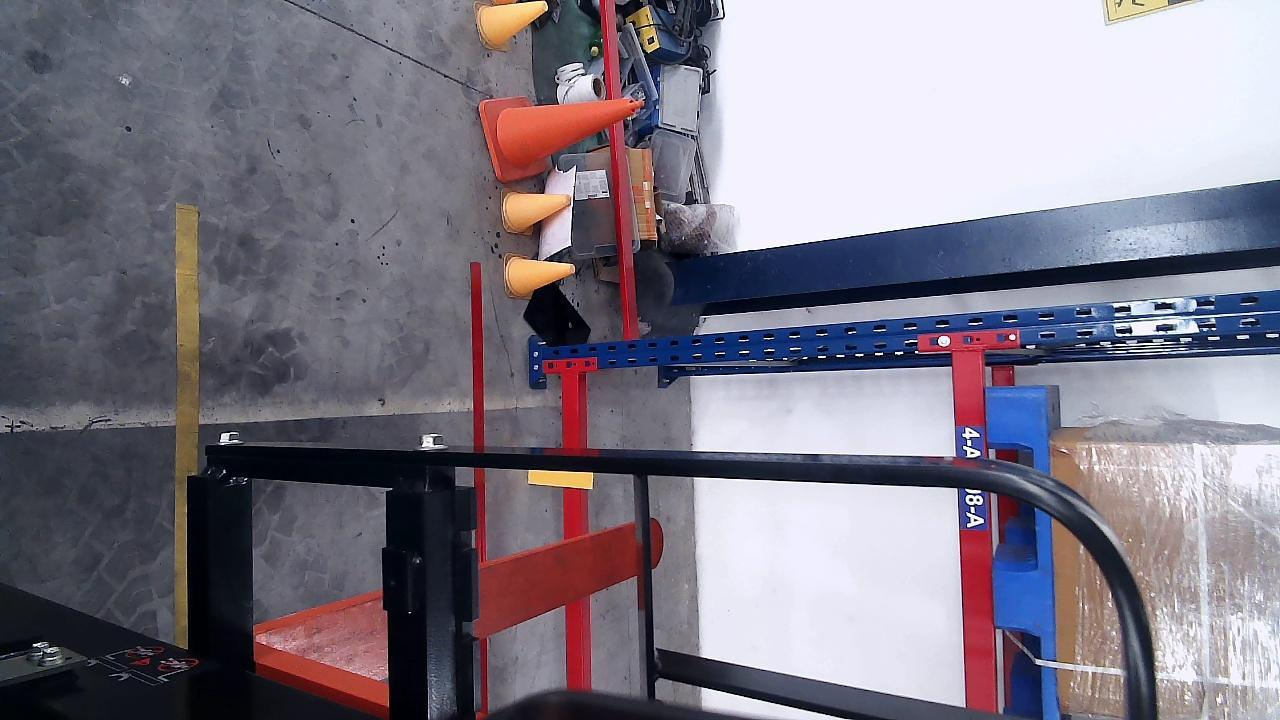h_rack: (951, 352, 1000, 710), (556, 371, 593, 687)
red_line: (469, 262, 490, 716)
small_pallet: (985, 389, 1061, 720)
yellow_line: (174, 205, 199, 471)
